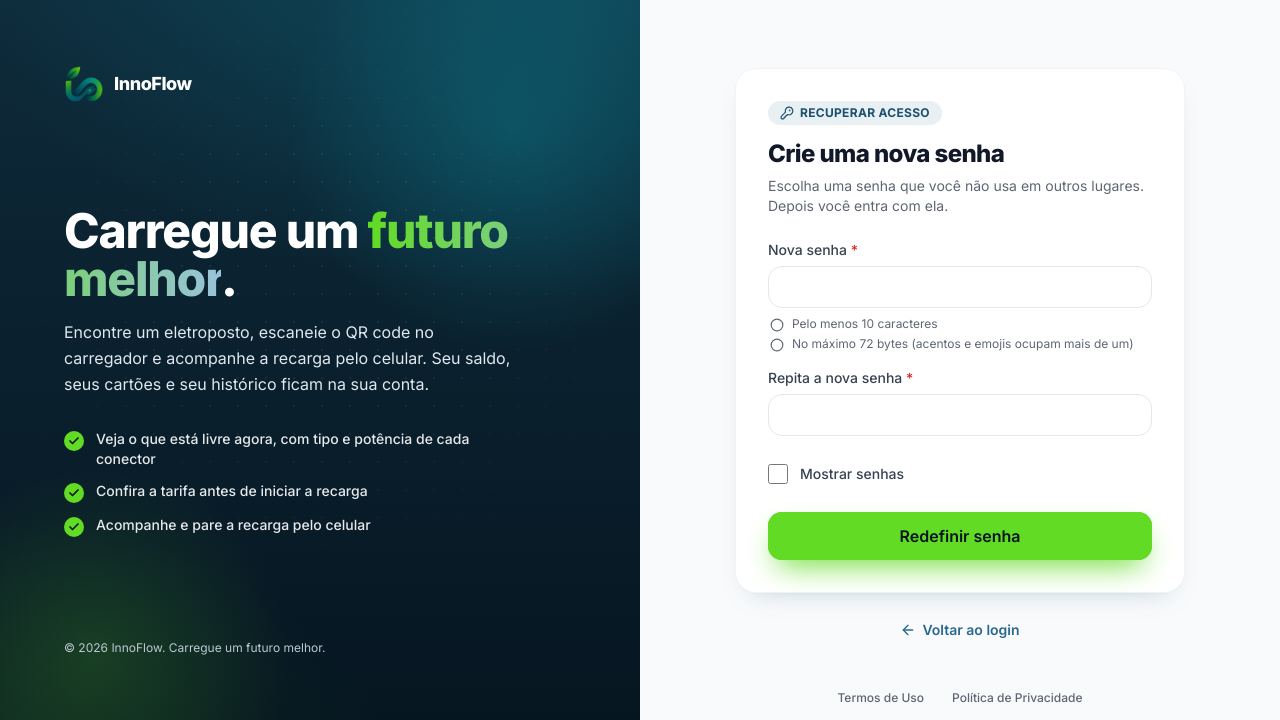
ResetPassword - respostas do servidor › a mutation não guarda token nem senha depois da resposta (gcTime 0 + reset)
In the password field labelled "Nova senha *": (960, 286) [768,266,1152,308], type "uma senha nova bem longa"
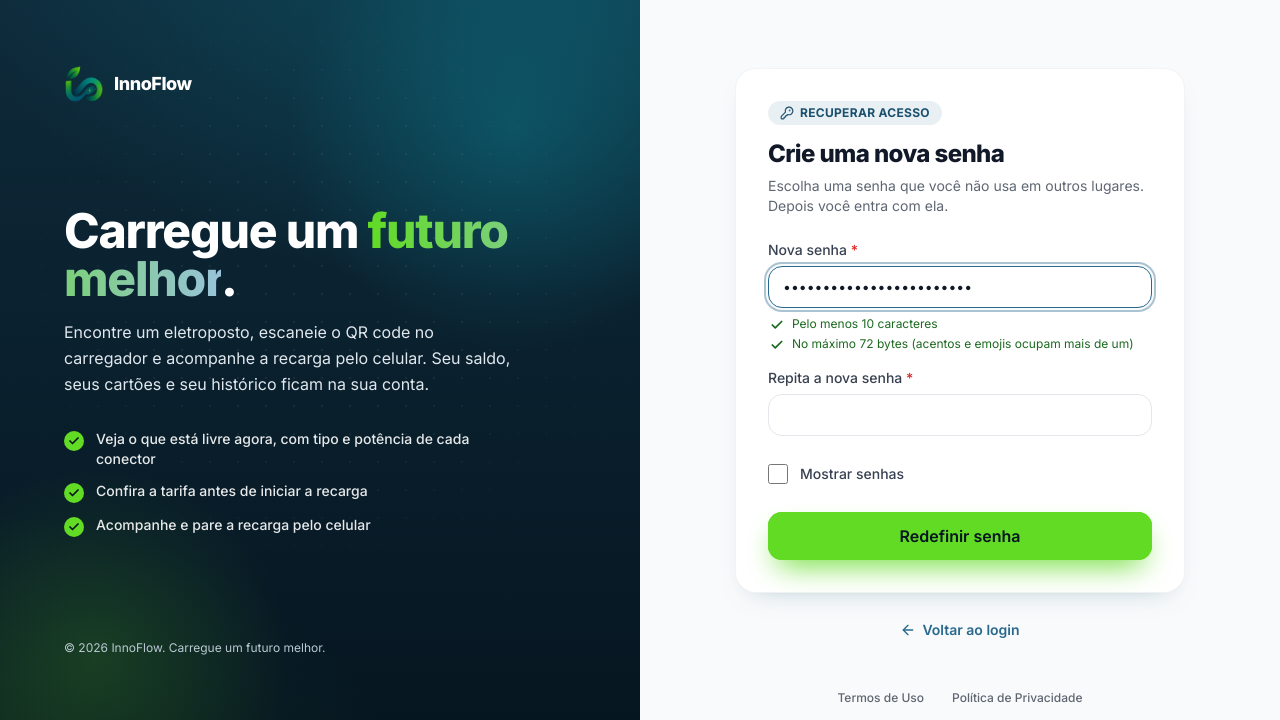
In the password field labelled "Repita a nova senha *": (960, 414) [768,394,1152,436], type "uma senha nova bem longa"
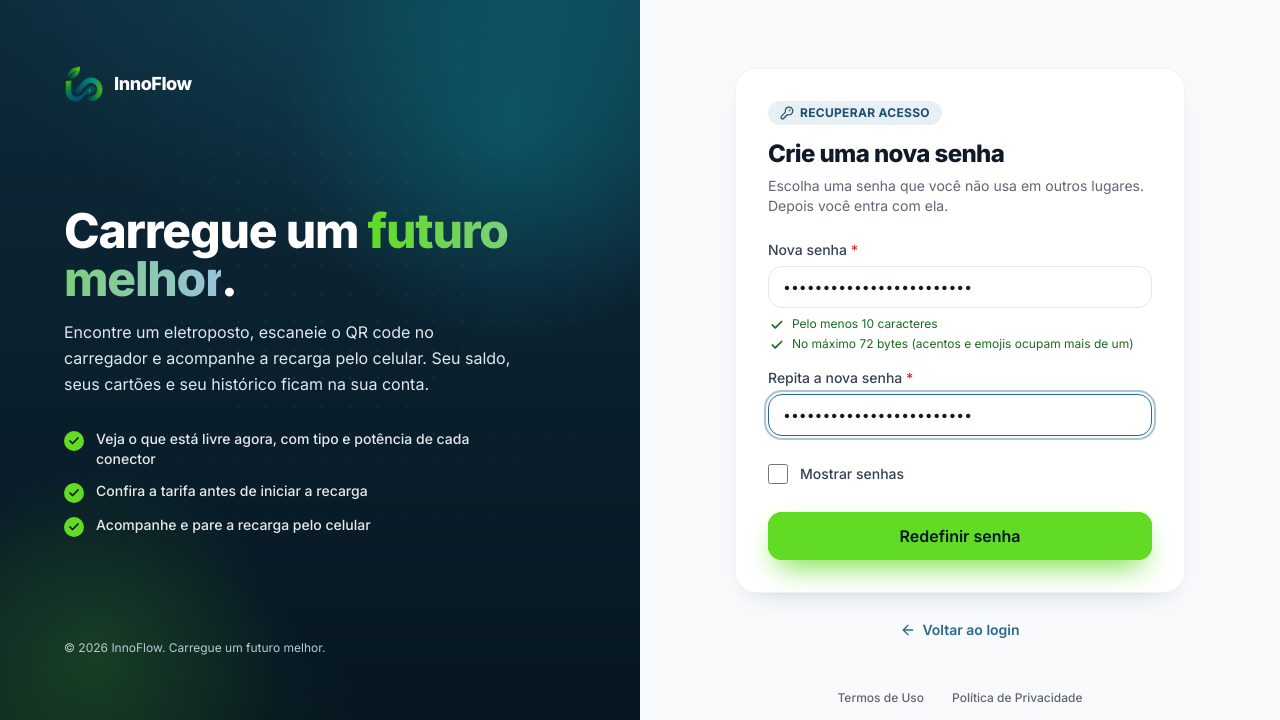
Click the button "Redefinir senha": (960, 536) [768,512,1152,560]
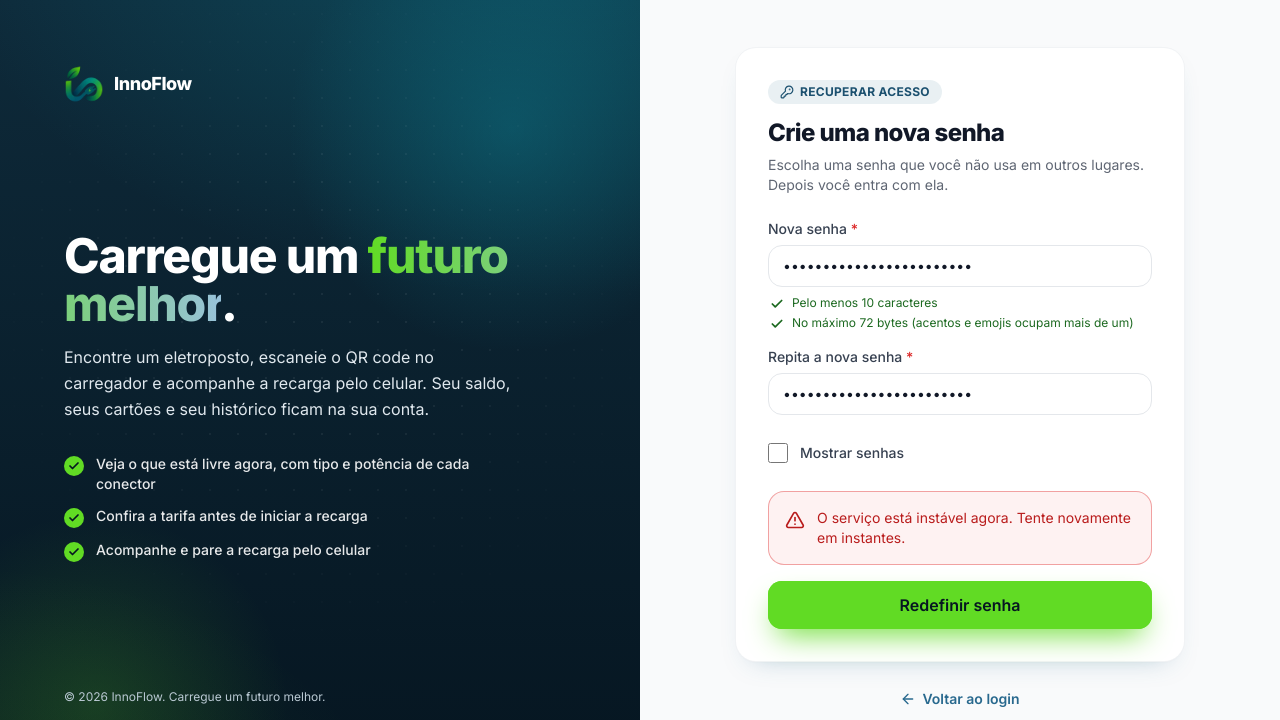
Check: the message "O serviço está instável agora. Tente novamente em instantes." is shown, box [768,491,1152,565]
